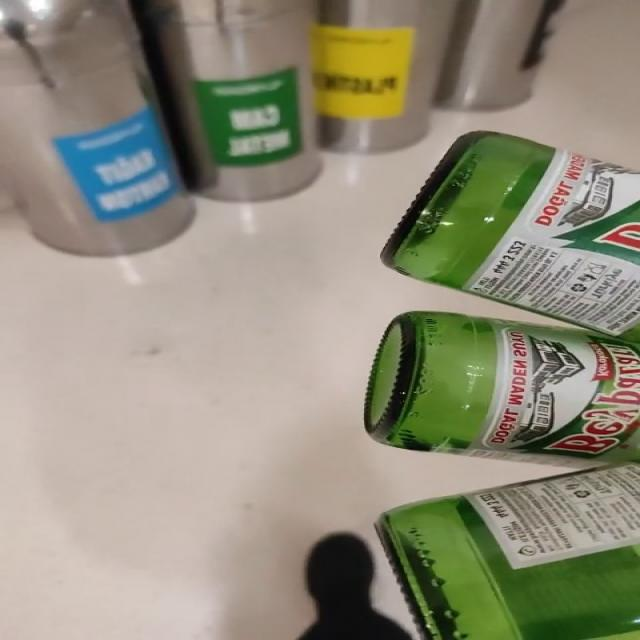glass: (365, 131, 640, 640)
